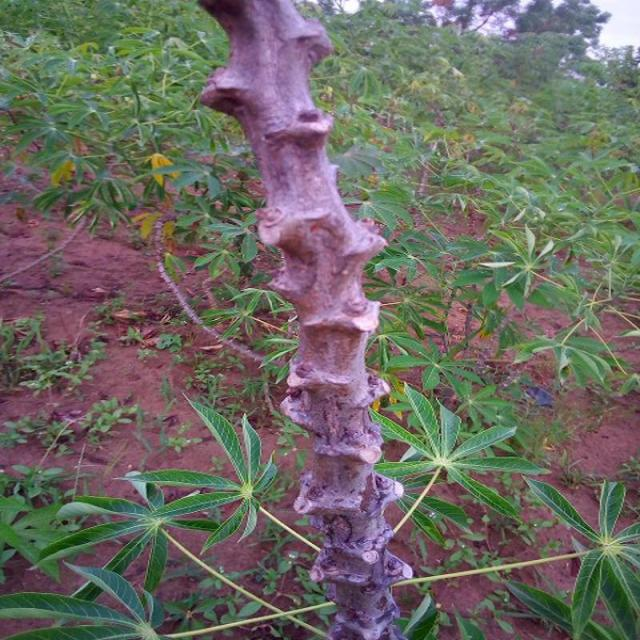cassava leaf: (369, 380, 546, 545)
